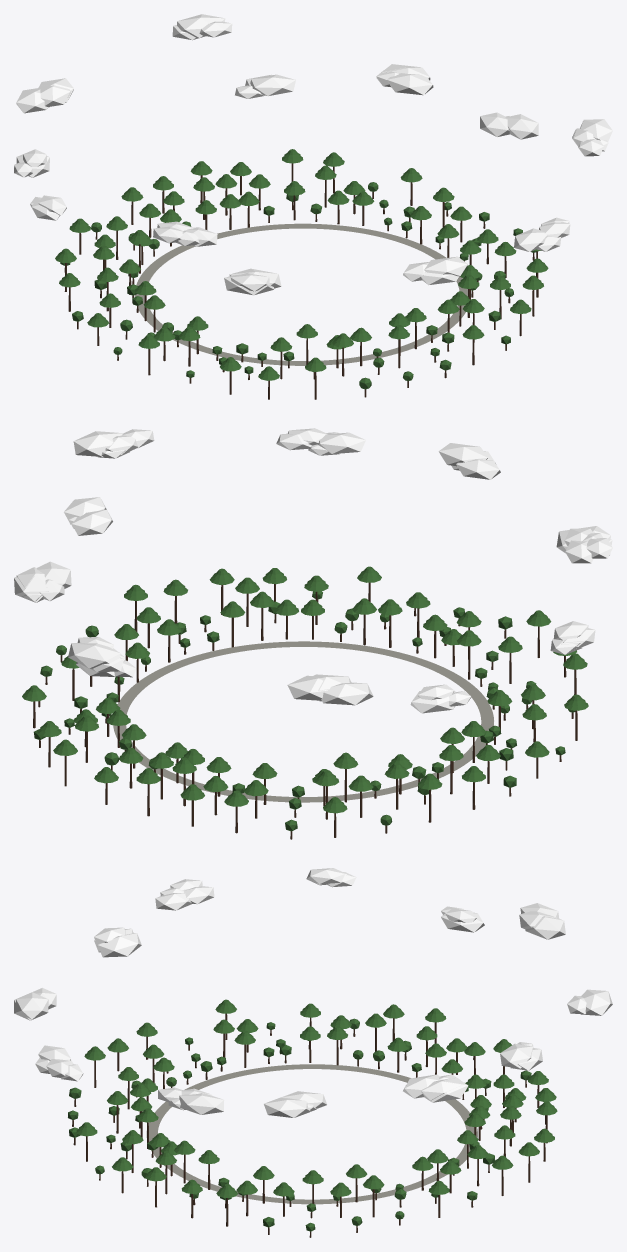
The model's file is cidade_fundo.glb.
The picture shows the model from 3 angles, top to bottom: view 1: azimuth 30°, elevation 25°; view 2: azimuth 150°, elevation 25°; view 3: azimuth 270°, elevation 25°; orthographic projection. The views are drawn at different scales.
Visible parts, largest first — view 1: cidade_Arvore, cidade_Nuvem, cidade_Madeira, cidade_Calcada; view 2: cidade_Arvore, cidade_Nuvem, cidade_Madeira, cidade_Calcada; view 3: cidade_Arvore, cidade_Nuvem, cidade_Madeira, cidade_Calcada.
Boxes of the visible parts, x1,y1,x2,y2 form: cidade_Arvore: (55, 149, 548, 389); cidade_Nuvem: (14, 14, 612, 295); cidade_Madeira: (64, 163, 538, 399); cidade_Calcada: (134, 223, 467, 365); cidade_Arvore: (22, 566, 588, 831); cidade_Nuvem: (14, 428, 612, 713); cidade_Madeira: (33, 582, 577, 839); cidade_Calcada: (113, 641, 493, 802); cidade_Arvore: (68, 999, 557, 1231); cidade_Nuvem: (14, 868, 612, 1117); cidade_Madeira: (72, 1013, 547, 1237); cidade_Calcada: (146, 1064, 477, 1204).
Size of the model in its own units: 182 by 54.84 by 186.
